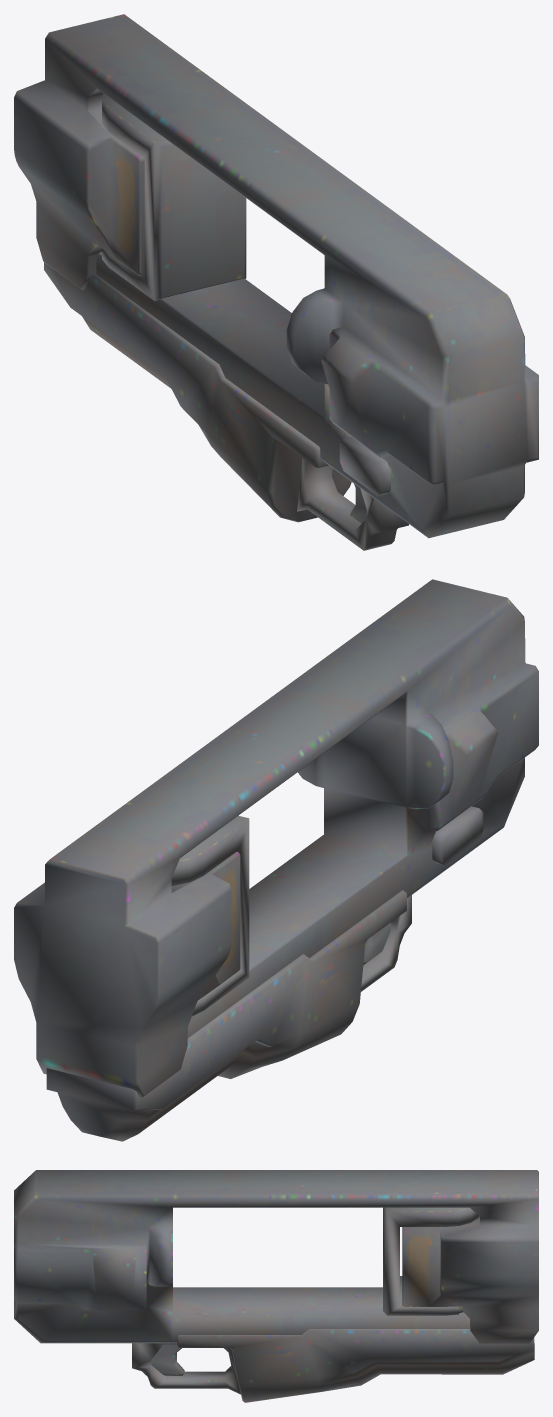
Rendered from body1.obj.
The picture shows the model from 3 angles, top to bottom: view 1: azimuth 30°, elevation 25°; view 2: azimuth 150°, elevation 25°; view 3: azimuth 270°, elevation 25°; orthographic projection. The views are drawn at different scales.
Visible parts, largest first — view 1: body1; view 2: body1; view 3: body1.
Part boxes in pixels (x1,y1,x2,y2): body1: (14, 14, 538, 550); body1: (14, 579, 538, 1141); body1: (14, 1170, 538, 1402).
Size of the model in its own units: 6.88 by 13.77 by 30.05.
